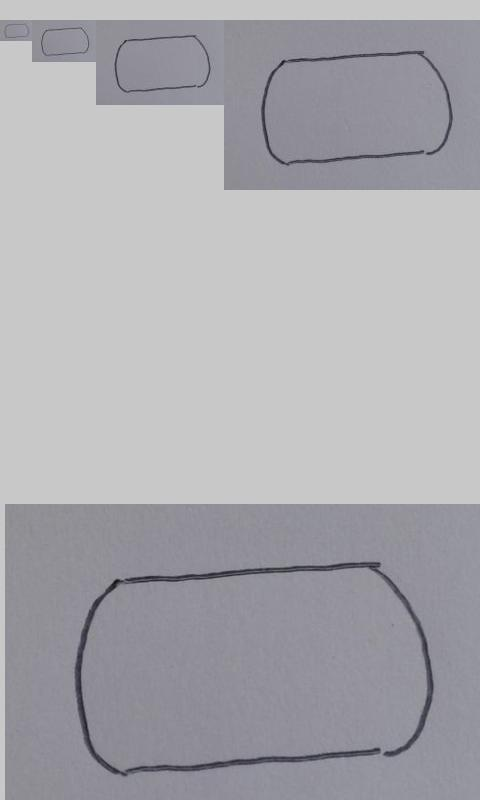chip: (72, 560, 435, 778), (261, 51, 455, 165), (114, 34, 211, 93), (40, 27, 90, 57), (3, 23, 30, 39)
